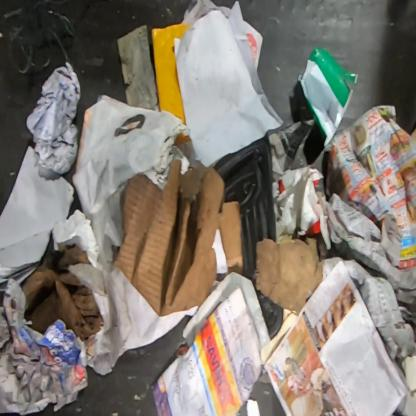cardboard: (112, 159, 242, 316), (21, 228, 104, 341), (256, 236, 322, 312)
rigid_plastic: (212, 136, 283, 340), (299, 47, 358, 148)
